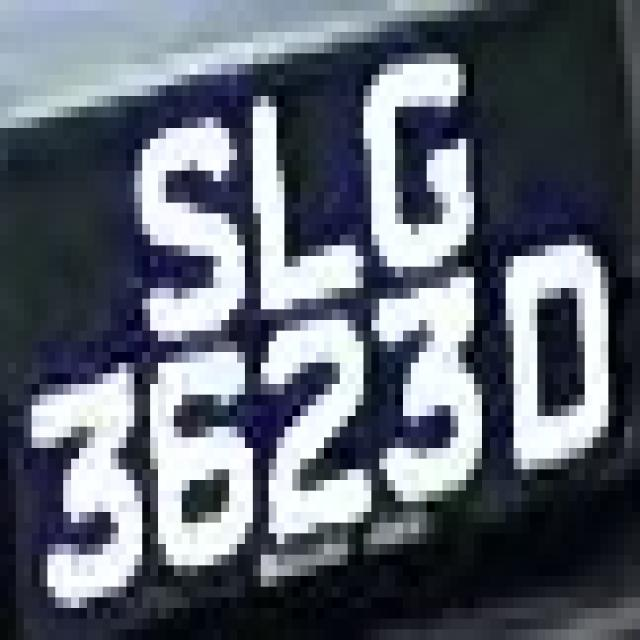2: (261, 309, 379, 544)
3: (16, 341, 166, 640), (355, 256, 490, 523)
6: (134, 299, 269, 565)
D: (490, 192, 640, 491)
G: (348, 42, 498, 298)
L: (222, 86, 372, 310)
S: (95, 85, 253, 331)
